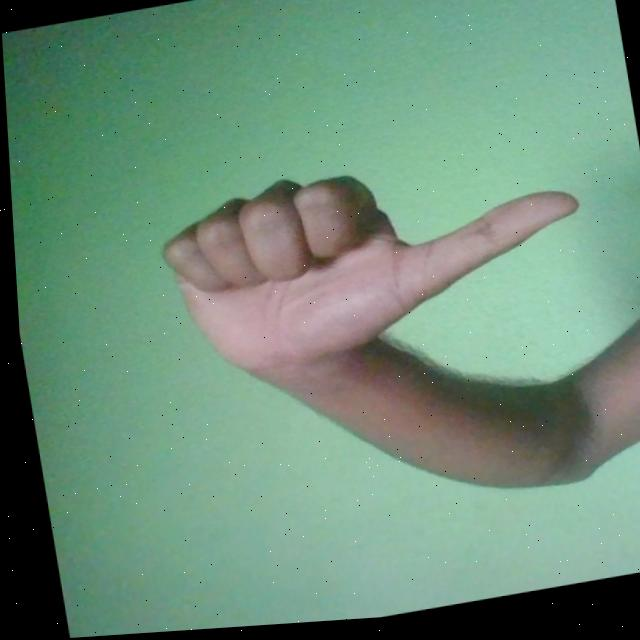Dislike: (147, 134, 596, 396)
